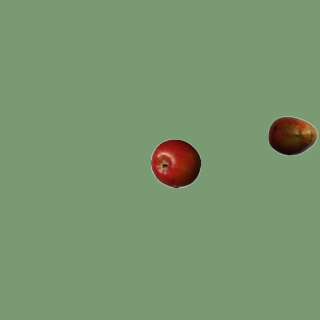Apple Braeburn: (150, 138, 200, 188)
Mango Red: (267, 110, 317, 160)
